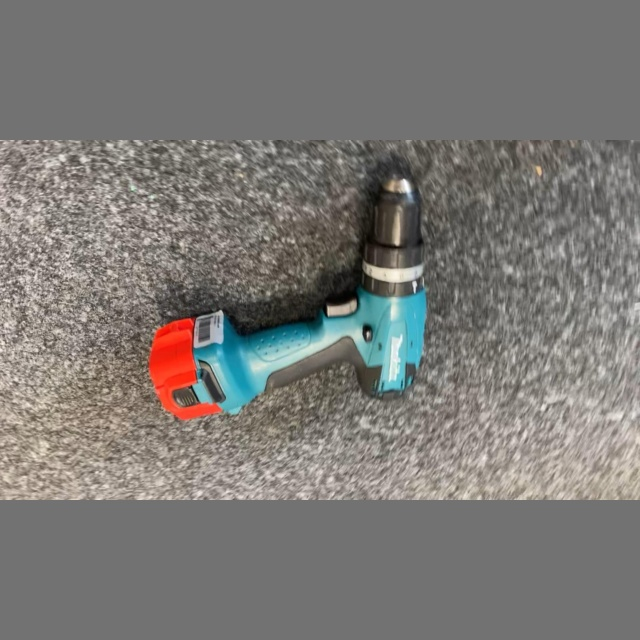drill: (140, 162, 435, 429)
